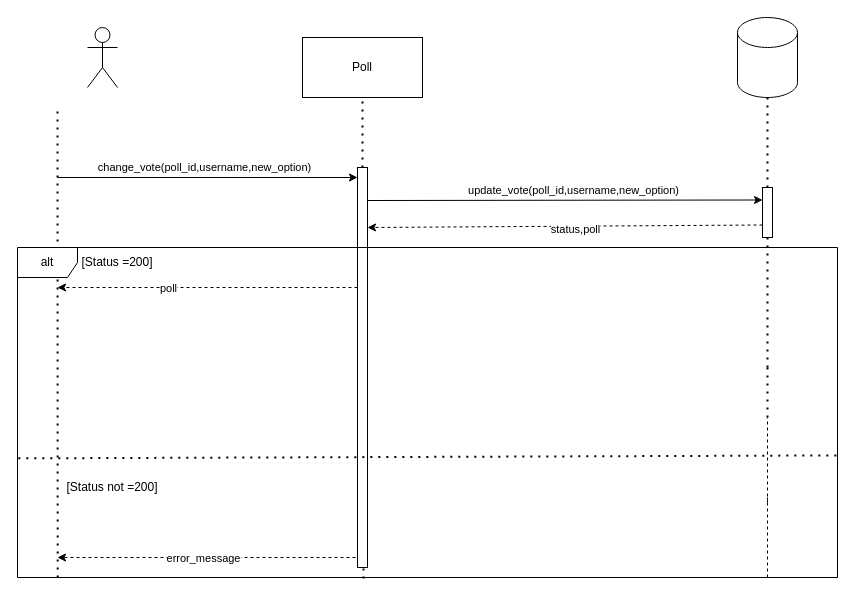
This 860x598 diagram has some shape labels left out. The centre of each missing label's shape, as x and y in pixels:
Database: (767,57)
Member: (102,57)
